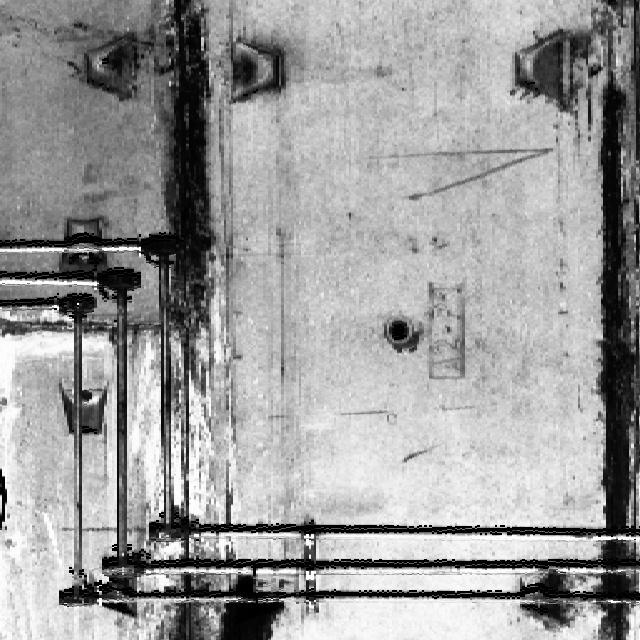leakage: (139, 0, 217, 639), (578, 0, 639, 639), (222, 567, 290, 639), (511, 564, 579, 635)
